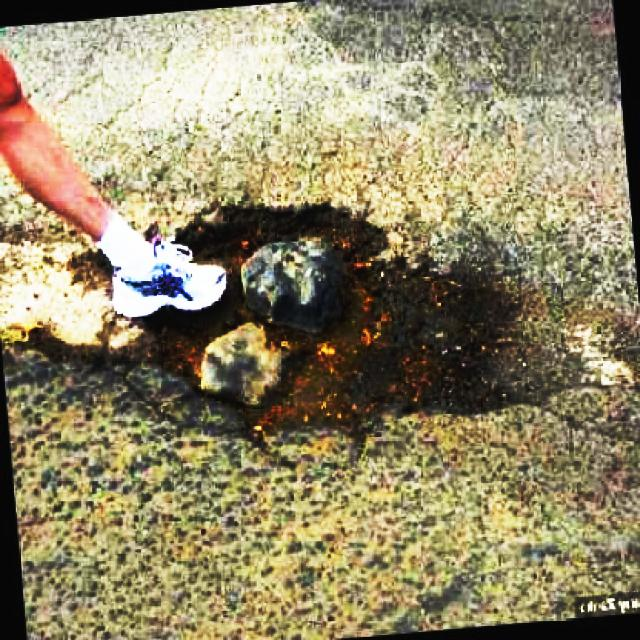pothole: (5, 193, 520, 444)
